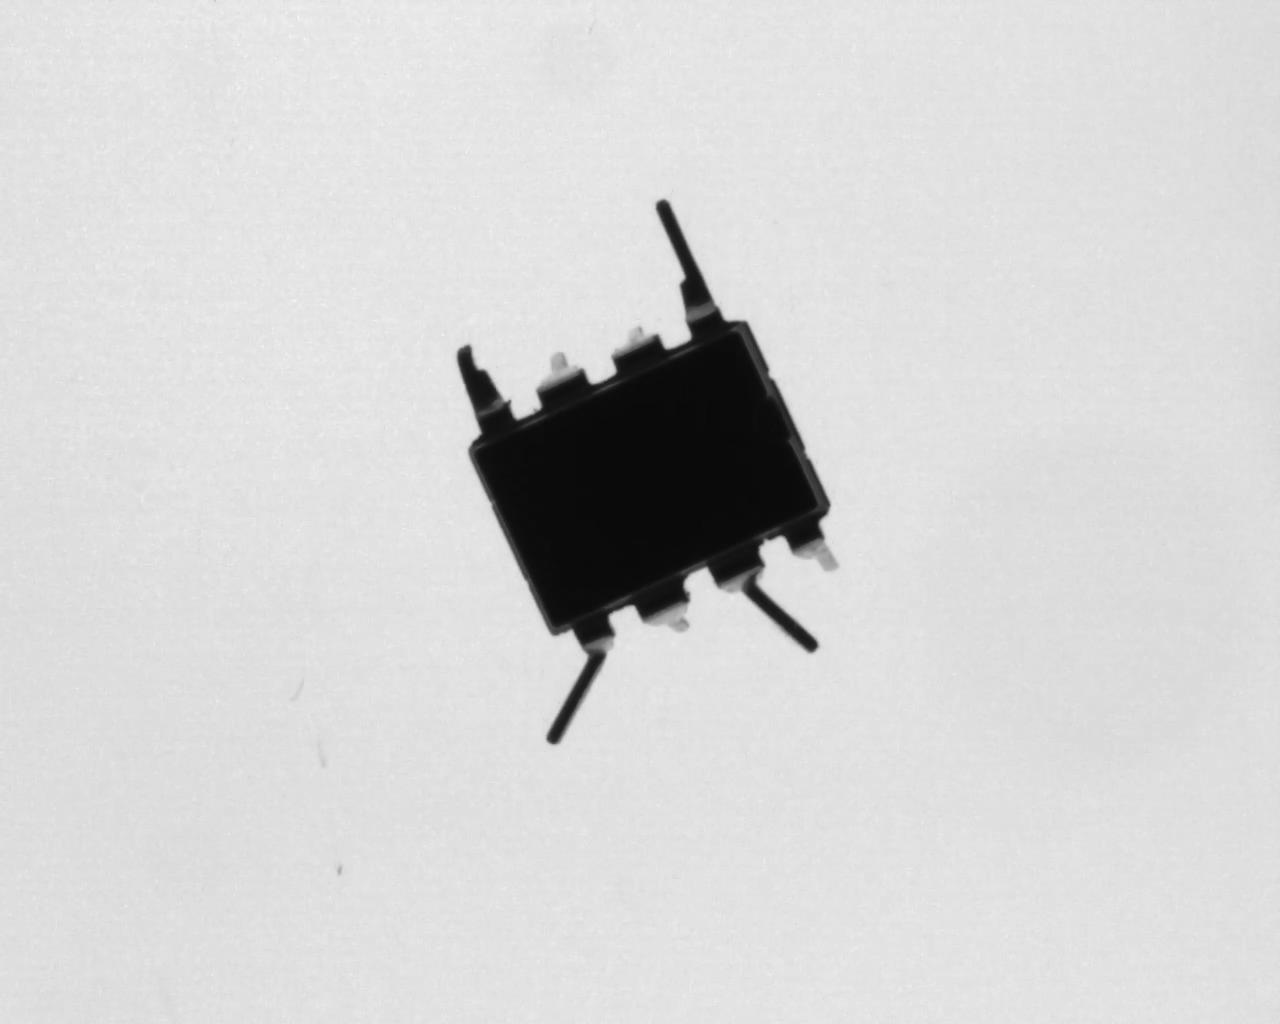Leg: (714, 548, 819, 653), (656, 199, 728, 330), (546, 611, 616, 744), (456, 342, 518, 432), (636, 575, 695, 633), (535, 350, 590, 406), (784, 518, 842, 572), (608, 325, 665, 371)
